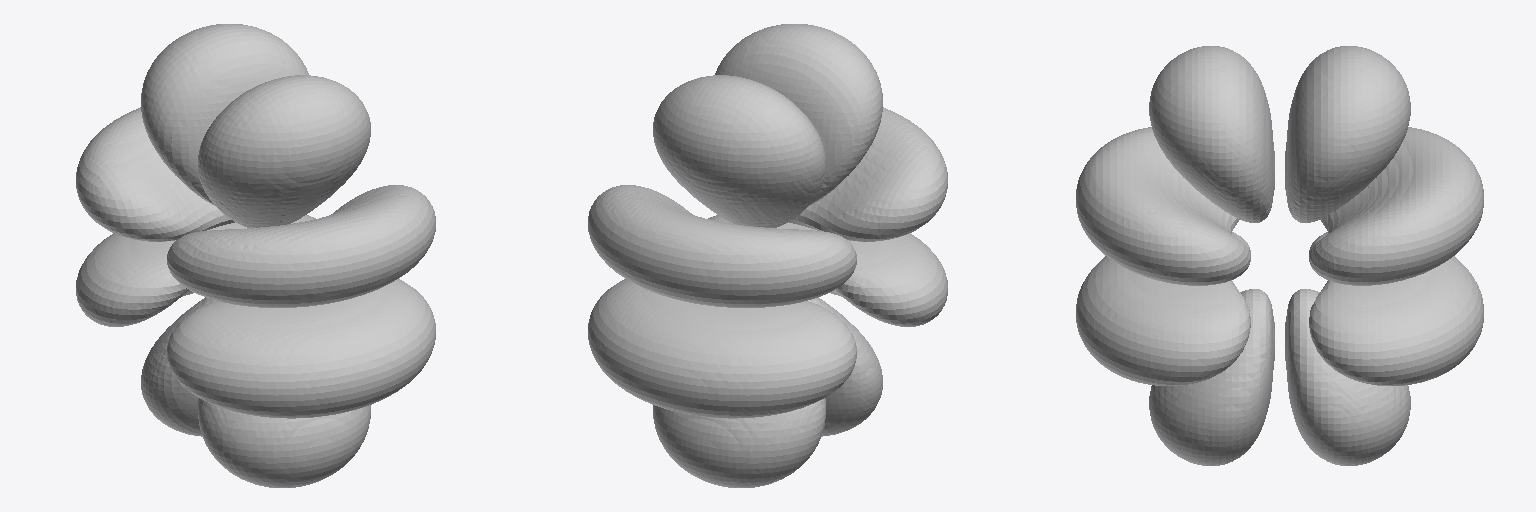
The model's file is orb_n=5_ l=4 _m=-1.obj.
The picture shows the model from 3 angles: view 1: azimuth 30°, elevation 25°; view 2: azimuth 150°, elevation 25°; view 3: azimuth 270°, elevation 25°; orthographic projection.
Parts seen in each view (by area): view 1: orb_n=5__l=4__m=-1; view 2: orb_n=5__l=4__m=-1; view 3: orb_n=5__l=4__m=-1.
Boxes of the visible parts, x1=… form: orb_n=5__l=4__m=-1: x1=76, y1=24, x2=435, y2=487; orb_n=5__l=4__m=-1: x1=588, y1=24, x2=947, y2=487; orb_n=5__l=4__m=-1: x1=1076, y1=46, x2=1483, y2=465.
Bounding box in the file's own units: 62.16 × 95.17 × 88.08.